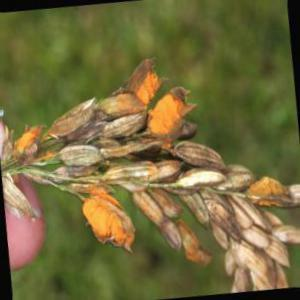Leaf_Scald: (132, 58, 178, 136), (252, 176, 300, 215), (86, 192, 117, 242), (18, 123, 40, 157)
